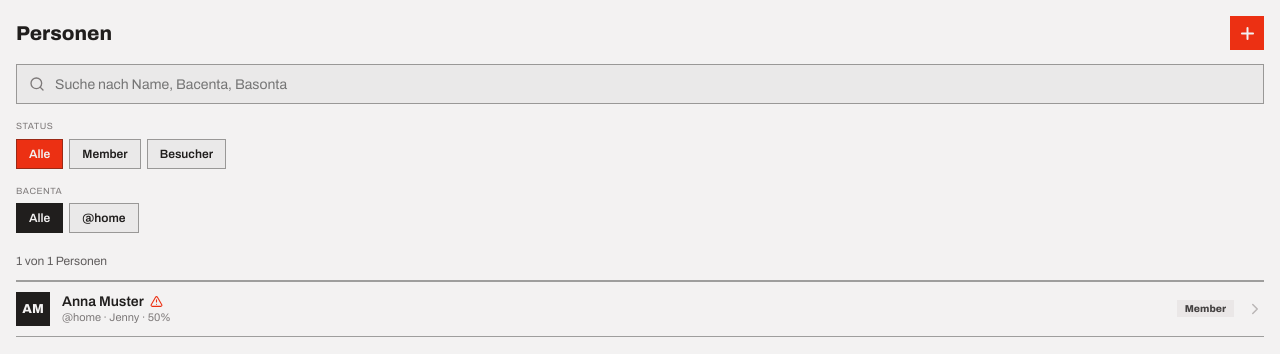
Test: PersonenListeScreen (7.2) › filtert per Suche auf Name/Bacenta/Basonta
Expected: the text "Anna Muster" is shown, [62,294,144,310]
Type "zzz-nichts" into the field with placeholder "Suche nach Name, Bacenta, Basonta".
click(652, 84); type("zzz-nichts")  # box [53,65,1251,103]
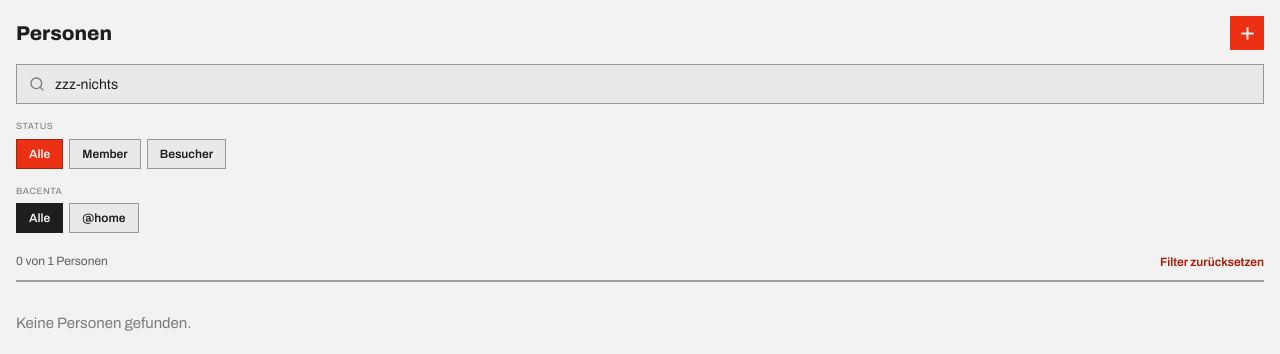
Expected: the text "Keine Personen gefunden." is shown, [16,315,191,331]
Expected: the text "0 von 1 Personen" is shown, [16,253,108,270]
Replace the text in the field with placeholder "Suche nach Name, Bacenta, Basonta" with "home" at [652, 84], box [53,65,1251,103]
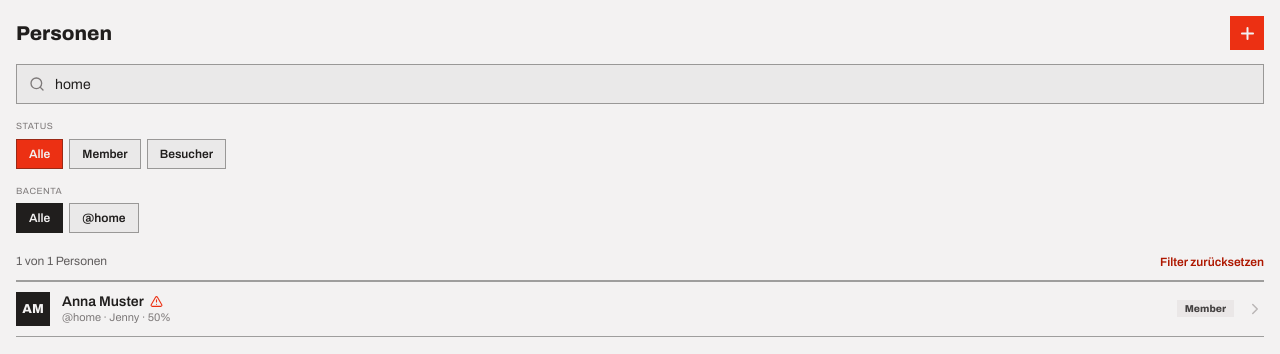
Expected: the text "Anna Muster" is shown, [62,294,144,310]
